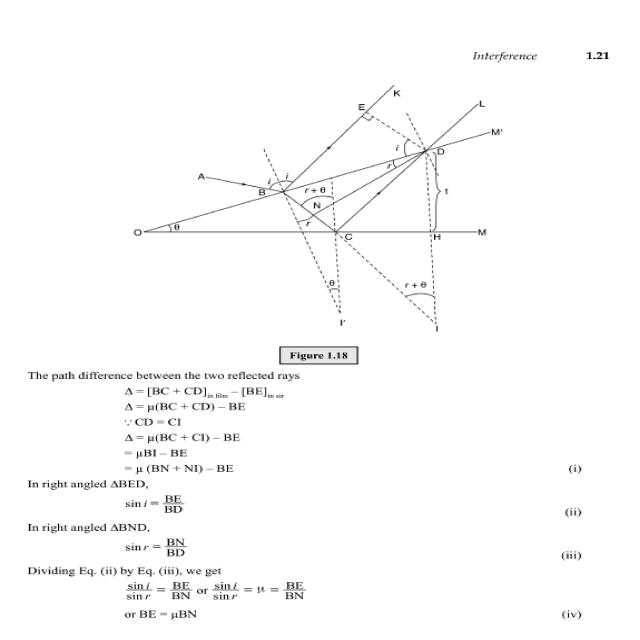diagram: (68, 78, 532, 364)
